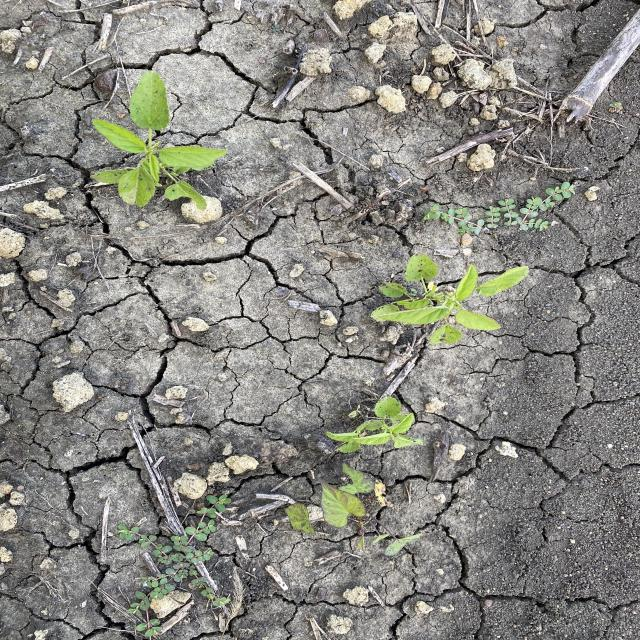MorningGlory: (283, 460, 426, 558)
PricklySida: (88, 69, 230, 213), (369, 251, 532, 349), (324, 396, 425, 458)
SpottedSpurge: (116, 494, 234, 639), (420, 180, 580, 237)
